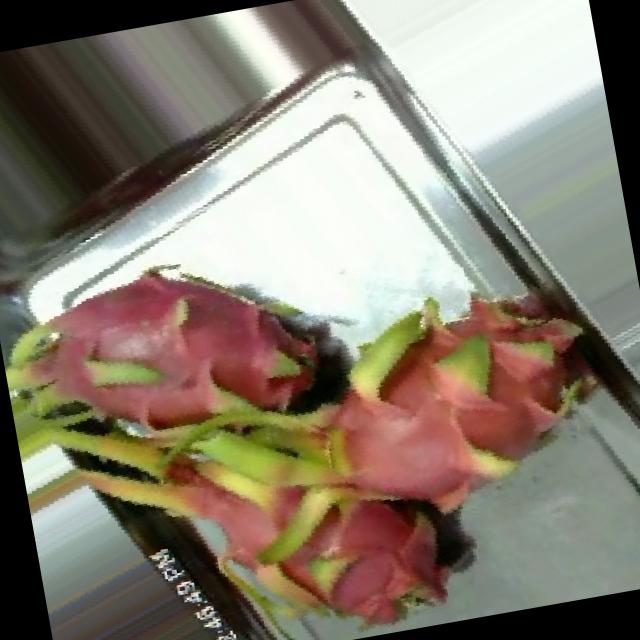Fruit: (249, 455, 480, 640)
